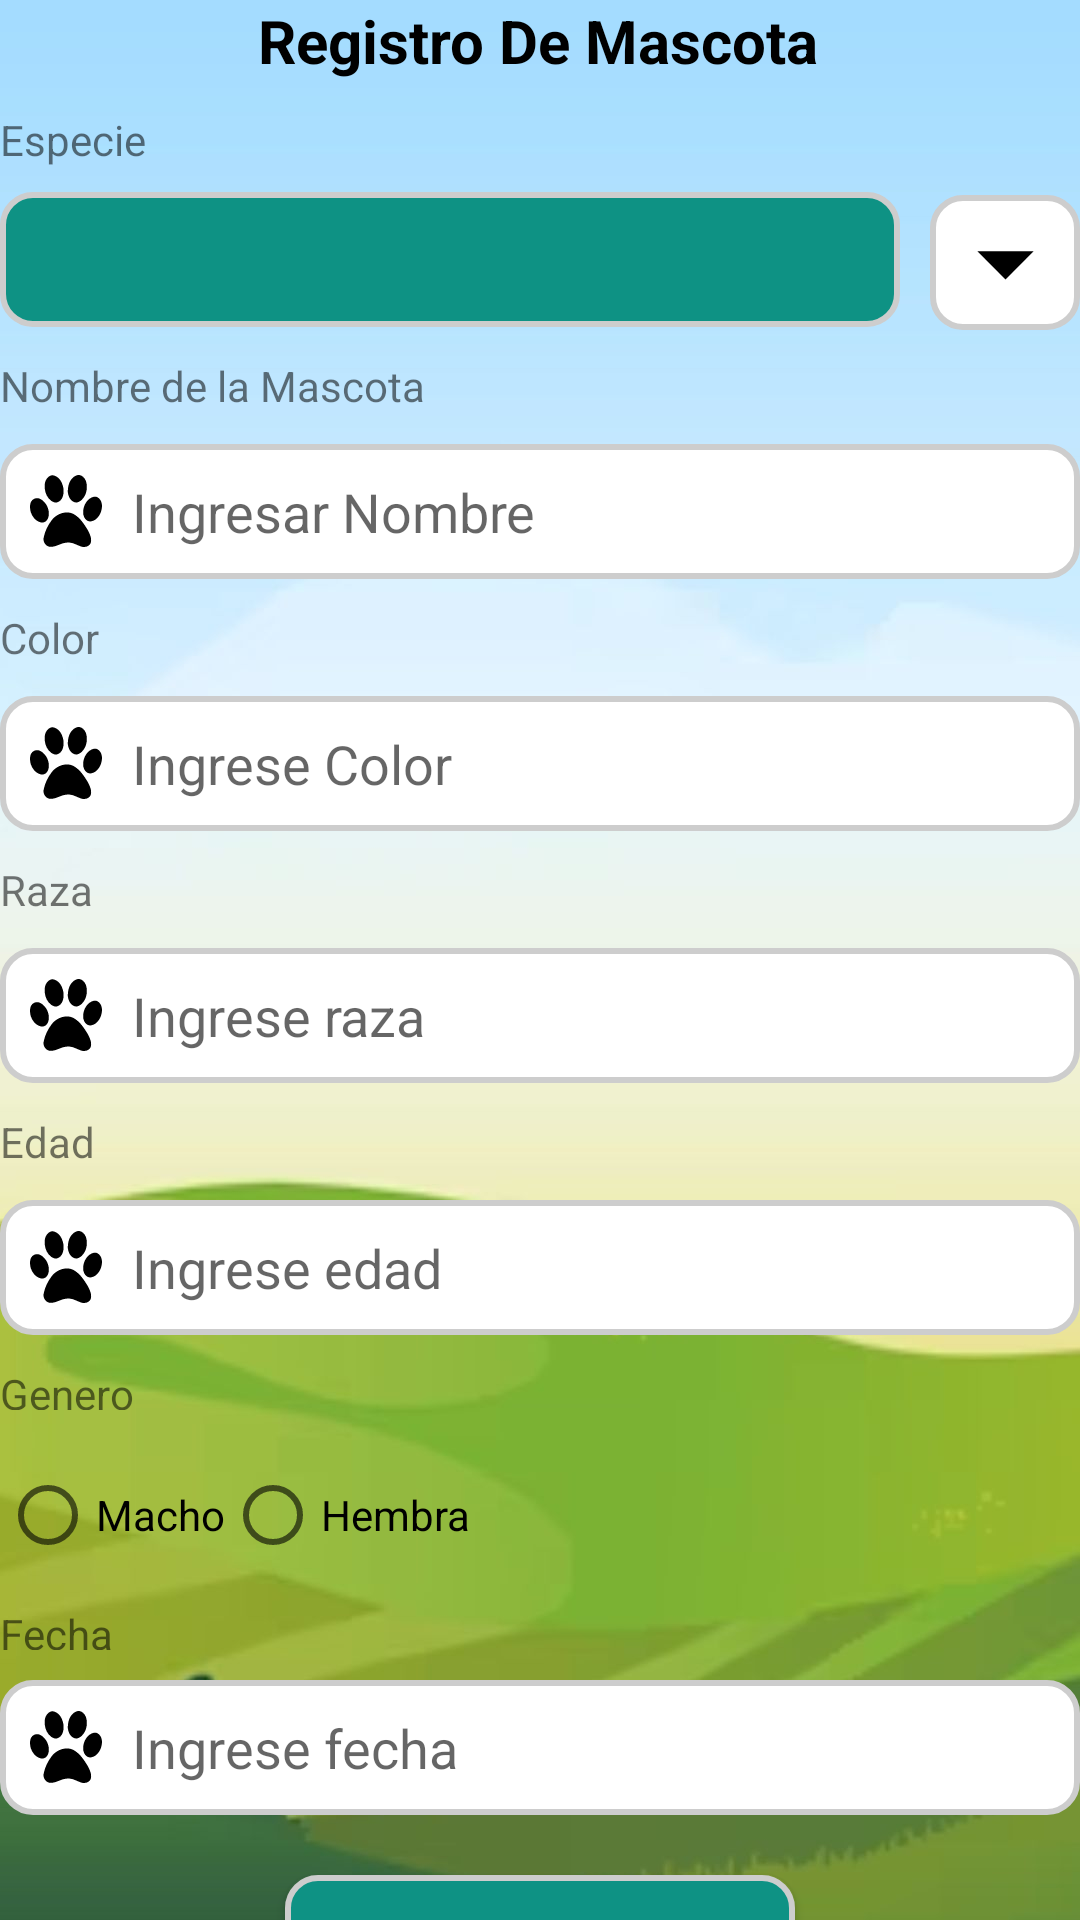

Where icons sit on this 1080x1920 app screen, as [left=x1, top=y1, right=x2, bottom=y2]:
flecha: [left=930, top=195, right=1080, bottom=330]
